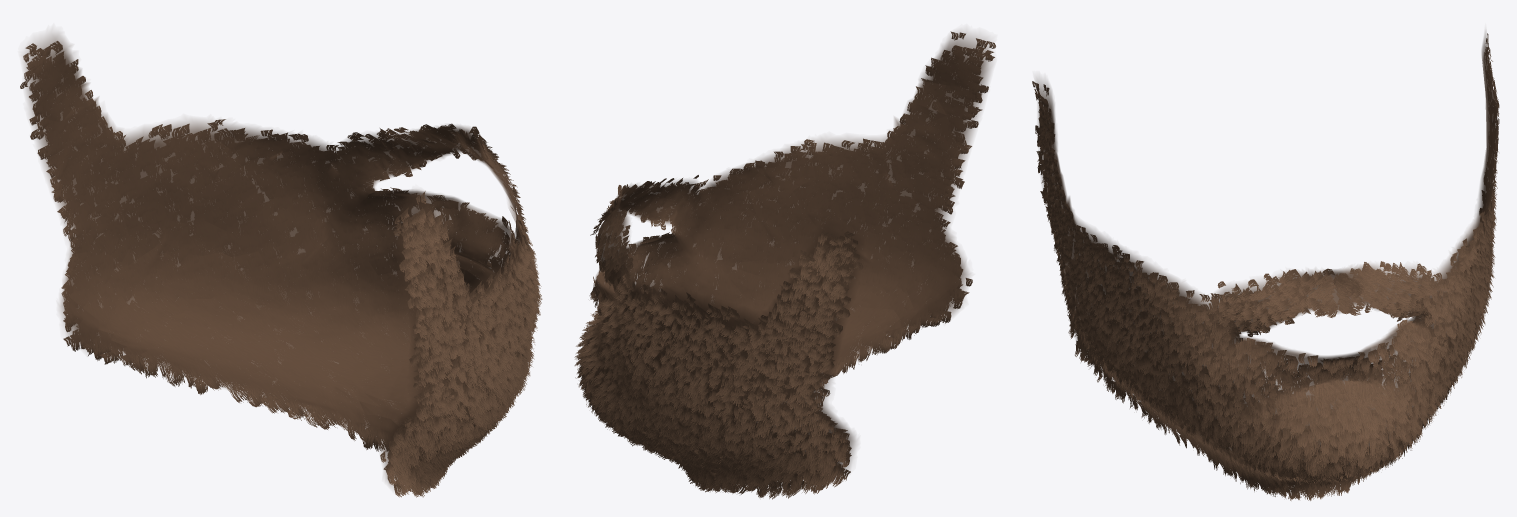
The model's file is beard-m4-boxed.glb.
3 renders of one model, left to right at view 1: azimuth 30°, elevation 25°; view 2: azimuth 150°, elevation 25°; view 3: azimuth 270°, elevation 25°, orthographic. The views are drawn at different scales.
Visible parts, largest first — view 1: Beard_m4_boxed_root, Beard_m4_boxed_cards; view 2: Beard_m4_boxed_cards, Beard_m4_boxed_root; view 3: Beard_m4_boxed_cards, Beard_m4_boxed_root.
Part boxes in pixels (x1,y1,x2,y2): Beard_m4_boxed_root: (23,32,530,488); Beard_m4_boxed_cards: (20,41,542,497); Beard_m4_boxed_cards: (574,31,995,499); Beard_m4_boxed_root: (587,31,992,480); Beard_m4_boxed_cards: (1032,33,1499,500); Beard_m4_boxed_root: (1035,31,1496,471).
Size of the model in its own units: 0.1407 by 0.143 by 0.1618.
Materials: 2 (1 with a texture image).
